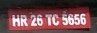2: (29, 13, 38, 26)
5: (61, 12, 69, 26), (74, 13, 81, 26)
6: (67, 12, 75, 26), (37, 13, 44, 27), (79, 13, 87, 25)
C: (52, 13, 60, 26)
H: (11, 14, 21, 27)
R: (21, 14, 29, 27)
T: (45, 13, 53, 27)
